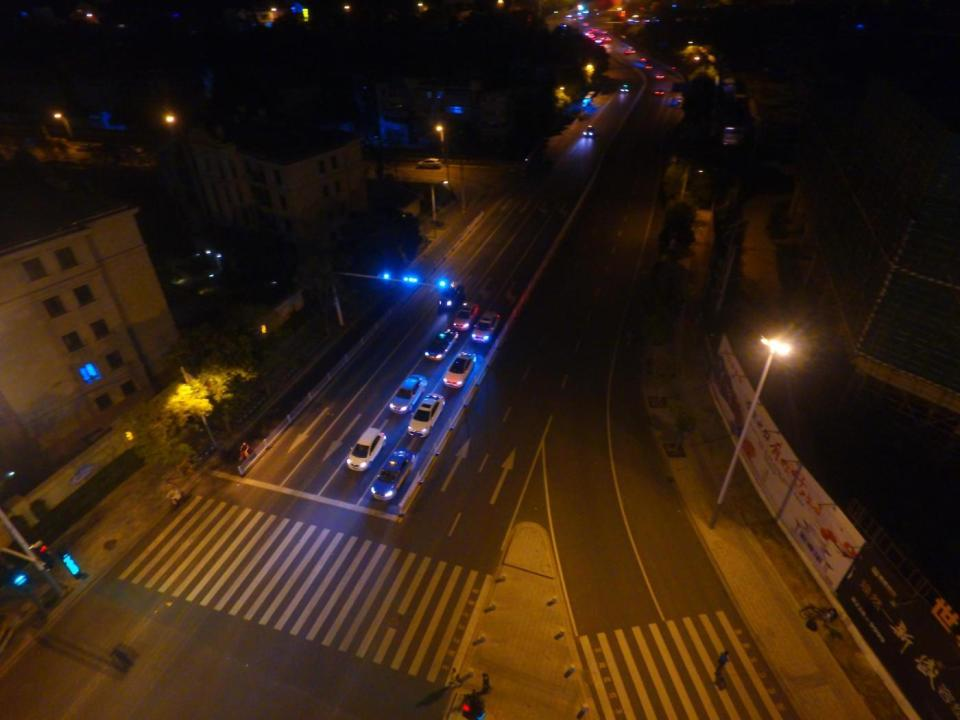car: (369, 450, 415, 501), (407, 391, 444, 439), (346, 428, 386, 472), (390, 374, 427, 416), (425, 328, 458, 363), (444, 353, 475, 388), (472, 311, 500, 345), (453, 302, 479, 332), (439, 280, 462, 312), (415, 158, 442, 169), (582, 124, 596, 138), (654, 86, 665, 97), (640, 63, 653, 71), (620, 82, 629, 92), (657, 72, 665, 80)
